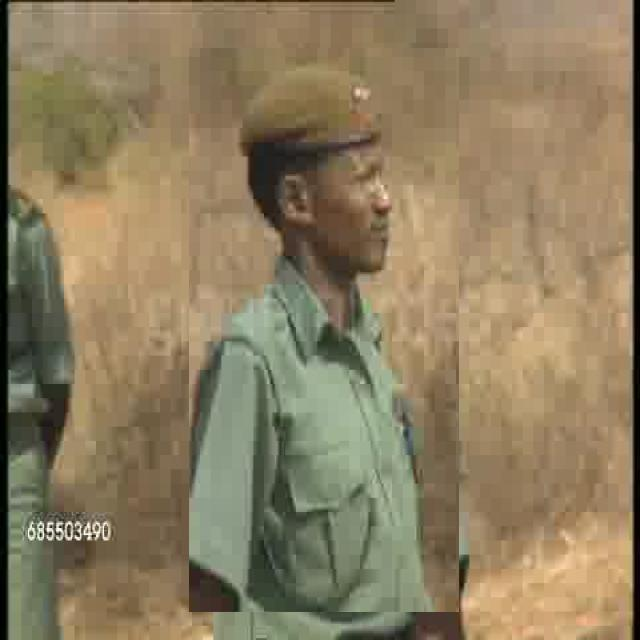poacher: (189, 48, 459, 612)
